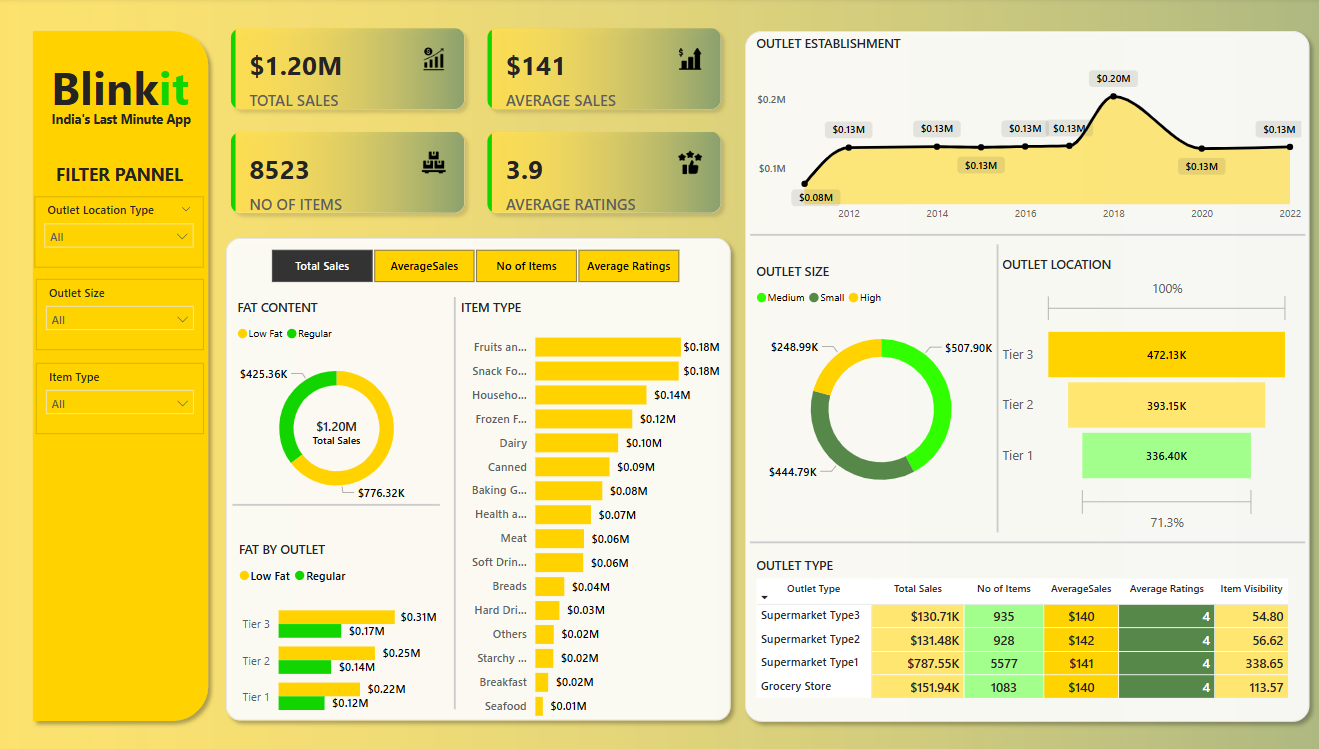

Layout of this report page (visuals, bound fields, positions):
{"tool":"powerbi","page":{"name":"Page 1","canvas":[1400,800],"ordinal":0},"visuals":[{"type":"shape","box":[24.8,26.9,204.6,750.3],"z":0},{"type":"textbox","box":[33.3,56.7,187.8,88.9],"z":1000},{"type":"textbox","box":[42.2,114.4,171.1,31.1],"z":2000},{"type":"cardVisual","fields":{"Data":["BlinkIT Grocery Data.Total Sales","BlinkIT Grocery Data.AverageSales","BlinkIT Grocery Data.No of Items","BlinkIT Grocery Data.Average Ratings"]},"box":[228,16,554,230],"z":3000},{"type":"shape","box":[230,246.7,553.3,530],"z":4000},{"type":"donutChart","title":"FAT CONTENT","fields":{"Y":["BlinkIT Grocery Data.Total Sales"],"Category":["BlinkIT Grocery Data.Item Fat Content"]},"box":[246.2,320,220,230],"z":5000},{"type":"slicer","fields":{"Values":["Metrics.Metrics"]},"box":[263.3,261.7,481.7,48.3],"z":6000},{"type":"cardVisual","fields":{"Data":["BlinkIT Grocery Data.Total Sales"]},"box":[312,428,90,64],"z":7000},{"type":"clusteredBarChart","title":"FAT BY OUTLET","fields":{"Y":["BlinkIT Grocery Data.Total Sales"],"Category":["BlinkIT Grocery Data.Outlet Location Type"],"Series":["BlinkIT Grocery Data.Item Fat Content"]},"box":[247.5,576.2,220,202.5],"z":8000},{"type":"shape","box":[246.7,518.3,220,40],"z":9000},{"type":"shape","box":[466.2,318.8,32.5,437.5],"z":10000},{"type":"barChart","title":"ITEM TYPE","fields":{"Y":["BlinkIT Grocery Data.Total Sales"],"Category":["BlinkIT Grocery Data.Item Type"]},"box":[483.3,320,285,458.3],"z":11000},{"type":"shape","box":[782,27,617,751],"z":12000},{"type":"lineChart","title":"OUTLET ESTABLISHMENT","fields":{"Y":["BlinkIT Grocery Data.Total Sales"],"Category":["BlinkIT Grocery Data.Outlet Establishment Year"]},"box":[797.3,39.1,588.2,207.3],"z":13000},{"type":"shape","box":[796.4,231.8,589.1,40],"z":14000},{"type":"donutChart","title":"OUTLET SIZE","fields":{"Y":["BlinkIT Grocery Data.Total Sales"],"Category":["BlinkIT Grocery Data.Outlet Size"]},"box":[797,282,275,267],"z":15000},{"type":"shape","box":[1042.2,262.2,32.2,305.6],"z":16000},{"type":"funnel","title":"OUTLET LOCATION","fields":{"Y":["Sum(BlinkIT Grocery Data.Sales)"],"Category":["BlinkIT Grocery Data.Outlet Location Type"]},"box":[1058.3,273.3,315,300],"z":17000},{"type":"shape","box":[796,558,589,40],"z":18000},{"type":"pivotTable","title":"OUTLET TYPE","fields":{"Rows":["BlinkIT Grocery Data.Outlet Type"],"Values":["BlinkIT Grocery Data.Total Sales","BlinkIT Grocery Data.No of Items","BlinkIT Grocery Data.AverageSales","BlinkIT Grocery Data.Average Ratings","Sum(BlinkIT Grocery Data.Item Visibility)"]},"box":[798,594,587,166],"z":19000},{"type":"slicer","fields":{"Values":["BlinkIT Grocery Data.Outlet Location Type"]},"box":[37,211,179,75],"z":20000},{"type":"slicer","fields":{"Values":["BlinkIT Grocery Data.Outlet Size"]},"box":[38.3,298.9,178,75],"z":21000},{"type":"slicer","fields":{"Values":["BlinkIT Grocery Data.Item Type"]},"box":[38.3,388.9,178,75],"z":22000},{"type":"textbox","box":[45,171,164,40],"z":23000}]}

Visuals, with their boxes in screenshot pixels (x1, y1, x2, y2), scaled from the page's 1400x800 canvas onto the 1319x749 screenshot:
shape: 23:25:216:728
textbox: 31:53:208:136
textbox: 40:107:201:136
cardVisual - BlinkIT Grocery Data.Total Sales x BlinkIT Grocery Data.AverageSales: 215:15:737:230
shape: 217:231:738:727
"FAT CONTENT" donutChart: 232:300:439:515
slicer - Metrics.Metrics: 248:245:702:290
cardVisual - BlinkIT Grocery Data.Total Sales: 294:401:379:461
"FAT BY OUTLET" clusteredBarChart: 233:539:440:729
shape: 232:485:440:523
shape: 439:298:470:708
"ITEM TYPE" barChart: 455:300:724:729
shape: 737:25:1318:728
"OUTLET ESTABLISHMENT" lineChart: 751:37:1305:231
shape: 750:217:1305:254
"OUTLET SIZE" donutChart: 751:264:1010:514
shape: 982:245:1012:532
"OUTLET LOCATION" funnel: 997:256:1294:537
shape: 750:522:1305:560
"OUTLET TYPE" pivotTable: 752:556:1305:712
slicer - BlinkIT Grocery Data.Outlet Location Type: 35:198:204:268
slicer - BlinkIT Grocery Data.Outlet Size: 36:280:204:350
slicer - BlinkIT Grocery Data.Item Type: 36:364:204:434
textbox: 42:160:197:198
